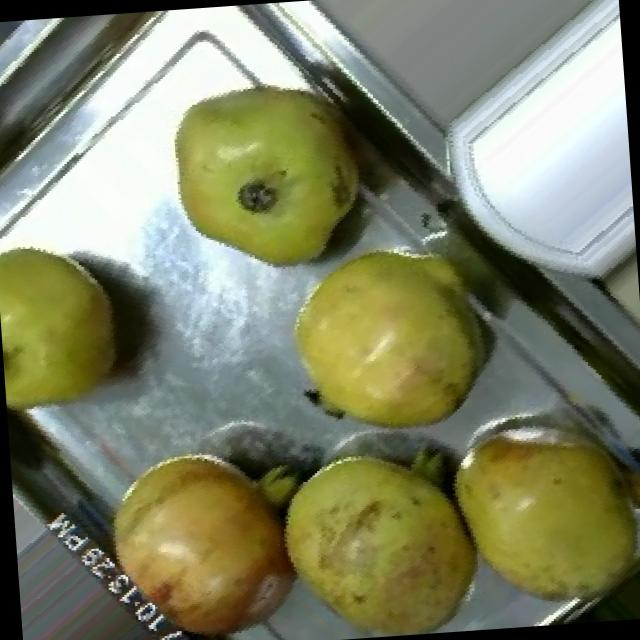fruit: (252, 216, 528, 472), (143, 46, 404, 300), (251, 413, 515, 640), (415, 380, 640, 633), (77, 419, 325, 640), (0, 215, 148, 442)
